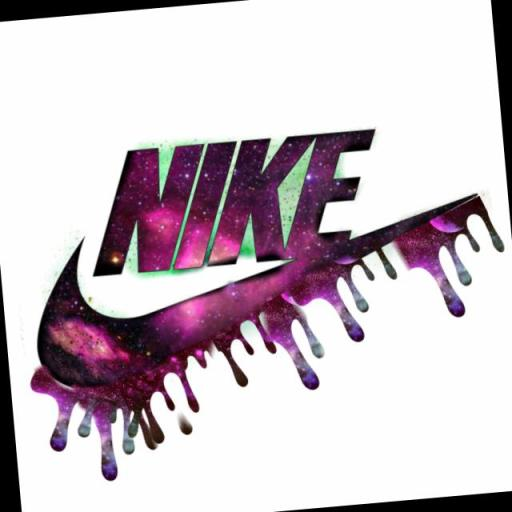Nike: (36, 232, 414, 390), (86, 128, 384, 278)
